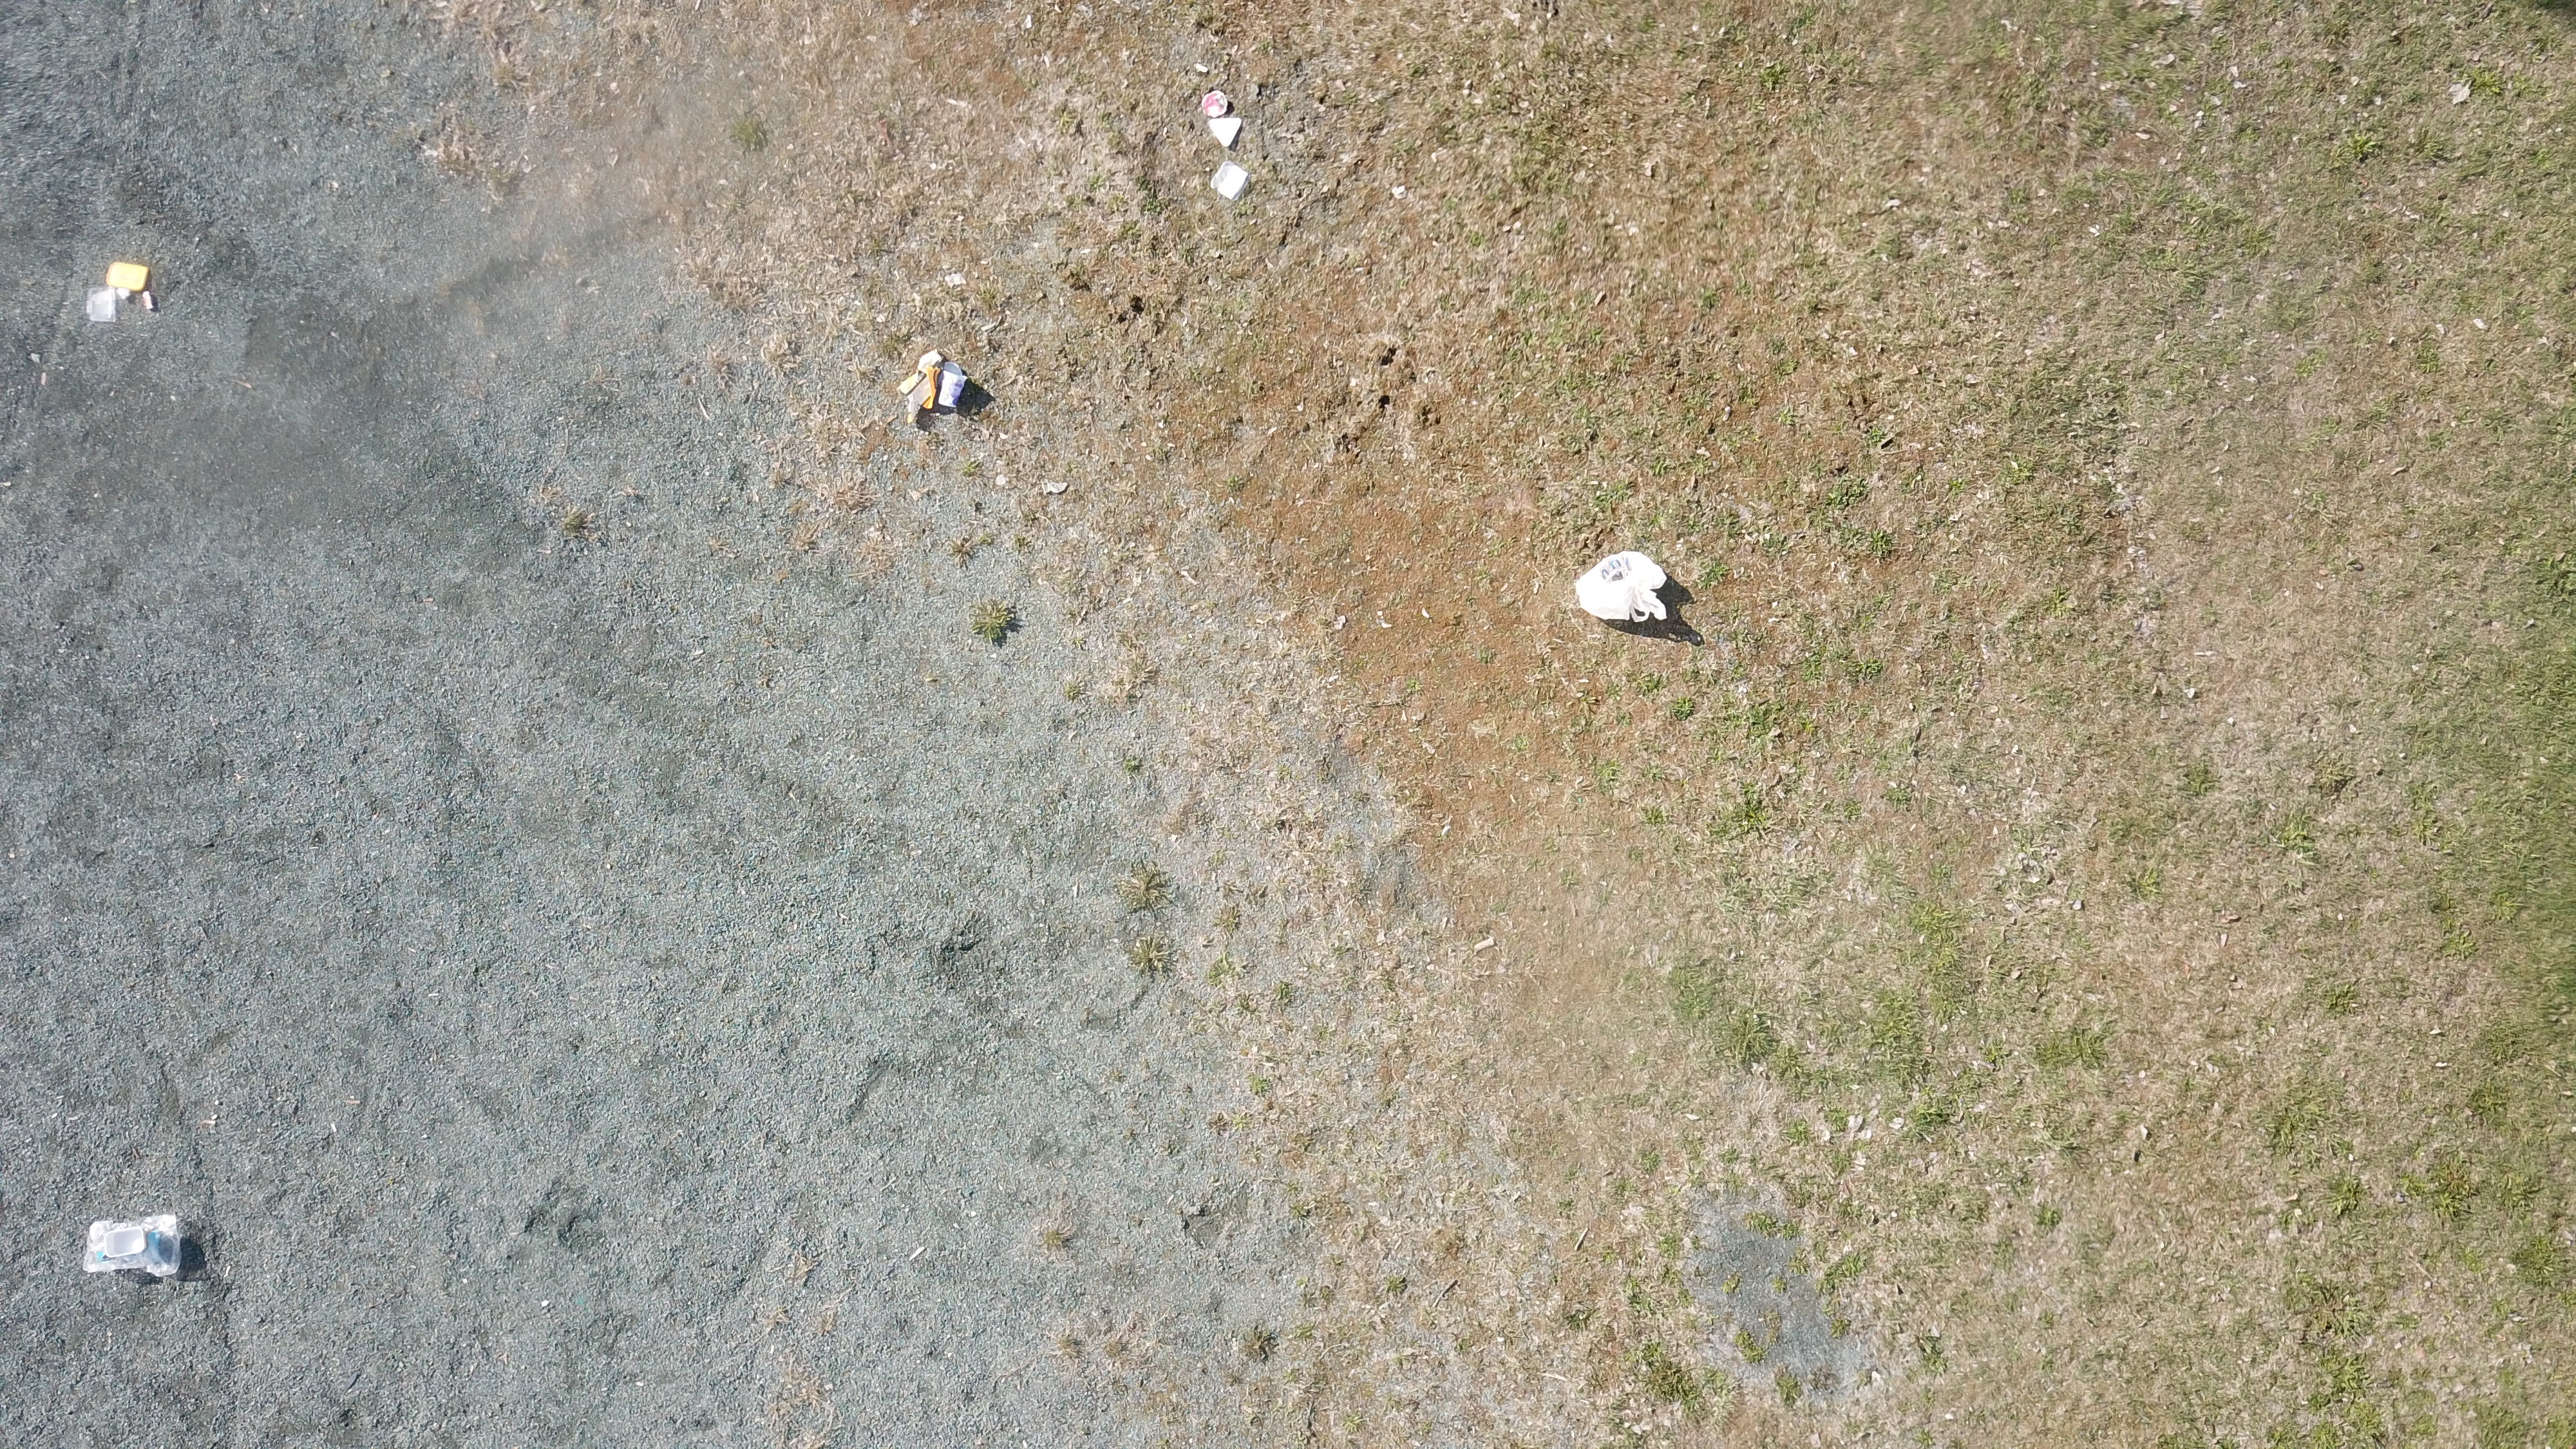Plastic: (1575, 550, 1672, 623), (83, 1212, 182, 1279), (899, 350, 945, 419), (934, 363, 968, 409), (1210, 161, 1249, 200), (104, 260, 150, 292), (85, 288, 124, 324), (1208, 117, 1242, 147), (1203, 92, 1228, 119), (142, 292, 154, 310)
